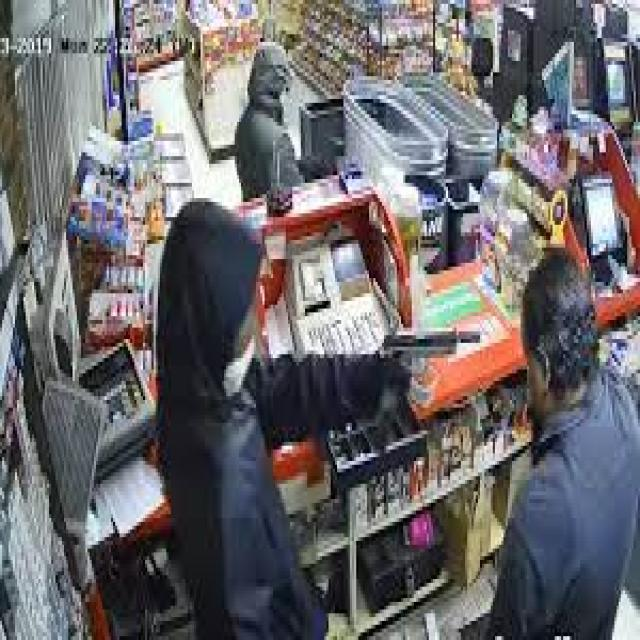pistol: (366, 312, 483, 394)
